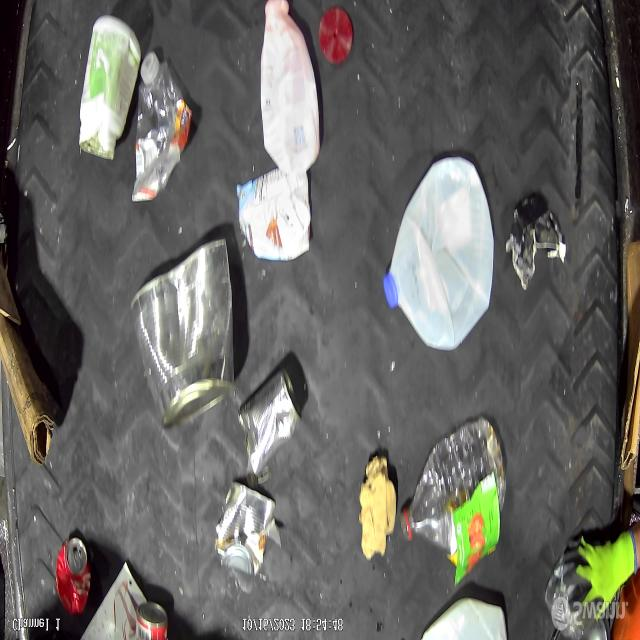can: (130, 235, 236, 432), (237, 366, 303, 476), (215, 480, 277, 578), (55, 536, 91, 614), (136, 602, 168, 640)
milk_jug: (383, 153, 494, 353), (258, 0, 322, 174), (238, 165, 312, 264), (421, 597, 508, 640)
plastic_bottle: (400, 416, 508, 550), (132, 52, 192, 204)
